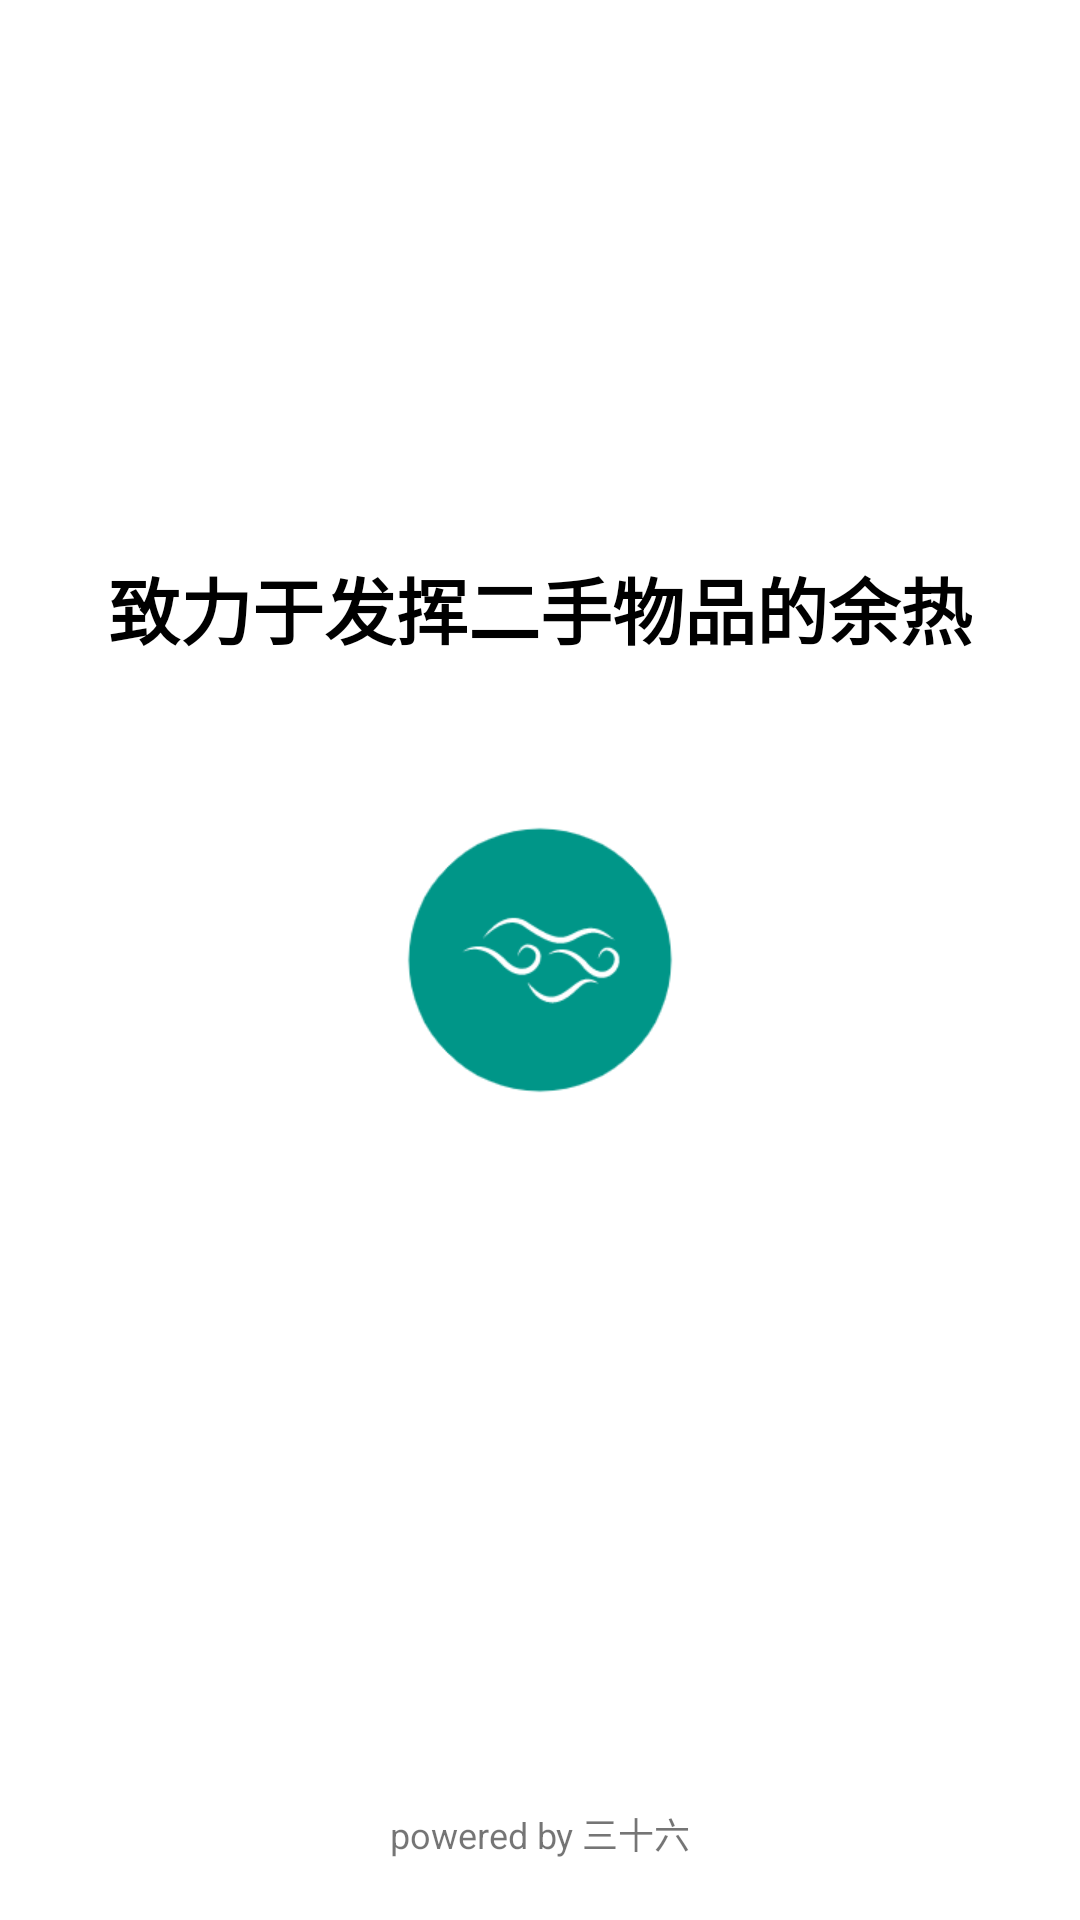

Point at icon controls on the screen. Image size 1080px x 1920px, points as (x=x, y=y).
app: (x=540, y=960)
